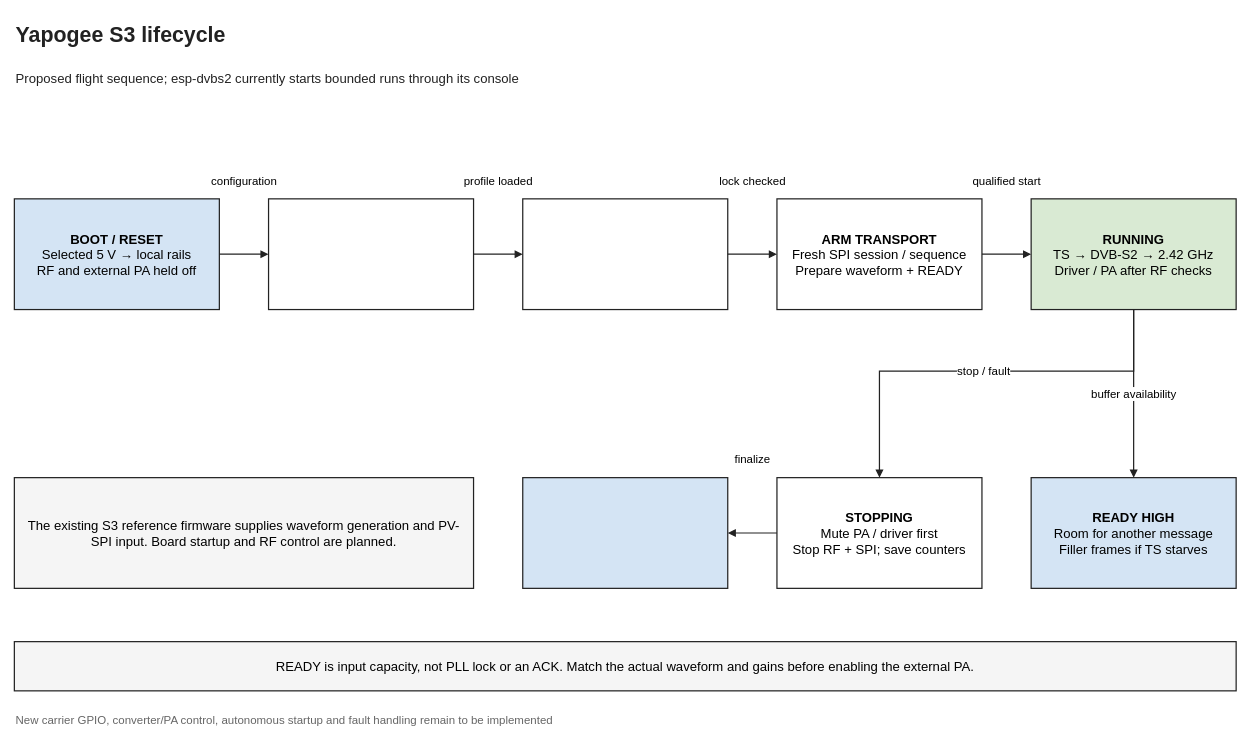
This 1259x745 diagram has some shape labels left out. Here are the shapes that lost their labels. From the top down, the centre of each, then its label:
At pixel 371 254: "LOAD PROFILE QPSK / 8PSK; rate to qualify Apply IQ conjugation".
At pixel 625 254: "SET CONVERTER Settle 3.0 V / 40 MHz ref LO 3.70 GHz; calibrate / lock".
At pixel 625 533: "IDLE RF and PA off Fresh session for next run".
